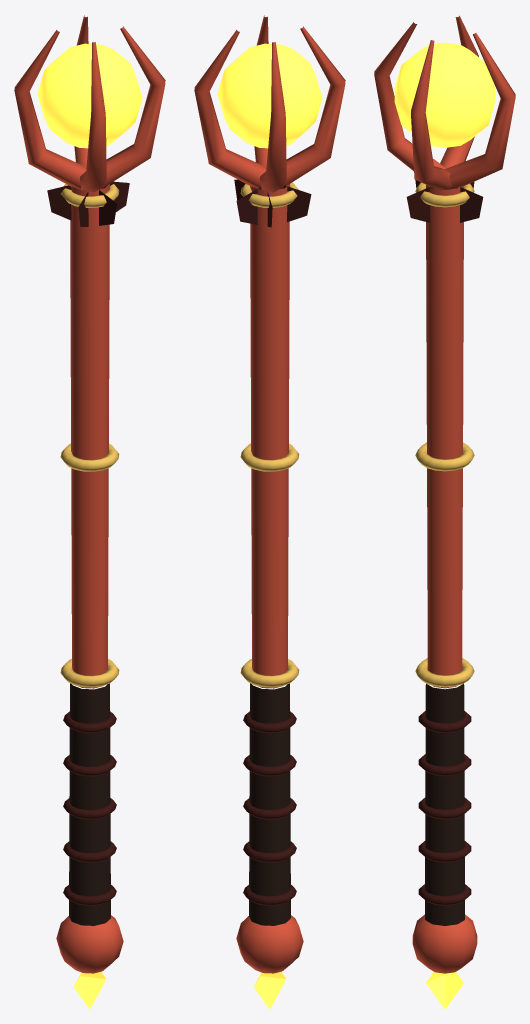
The model's file is scepter_4.glb.
3 views of the same model, side by side, from view 1: azimuth 30°, elevation 25°; view 2: azimuth 210°, elevation 25°; view 3: azimuth 270°, elevation 25° (orthographic).
Visible parts, largest first — view 1: scepter_4; view 2: scepter_4; view 3: scepter_4.
Boxes of the visible parts, left/top/right/bottom form: scepter_4: left=14, top=15, right=165, bottom=1009; scepter_4: left=194, top=15, right=345, bottom=1009; scepter_4: left=374, top=15, right=515, bottom=1009.
Bounding box in the file's own units: 0.1356 × 1.02 × 0.1335.
